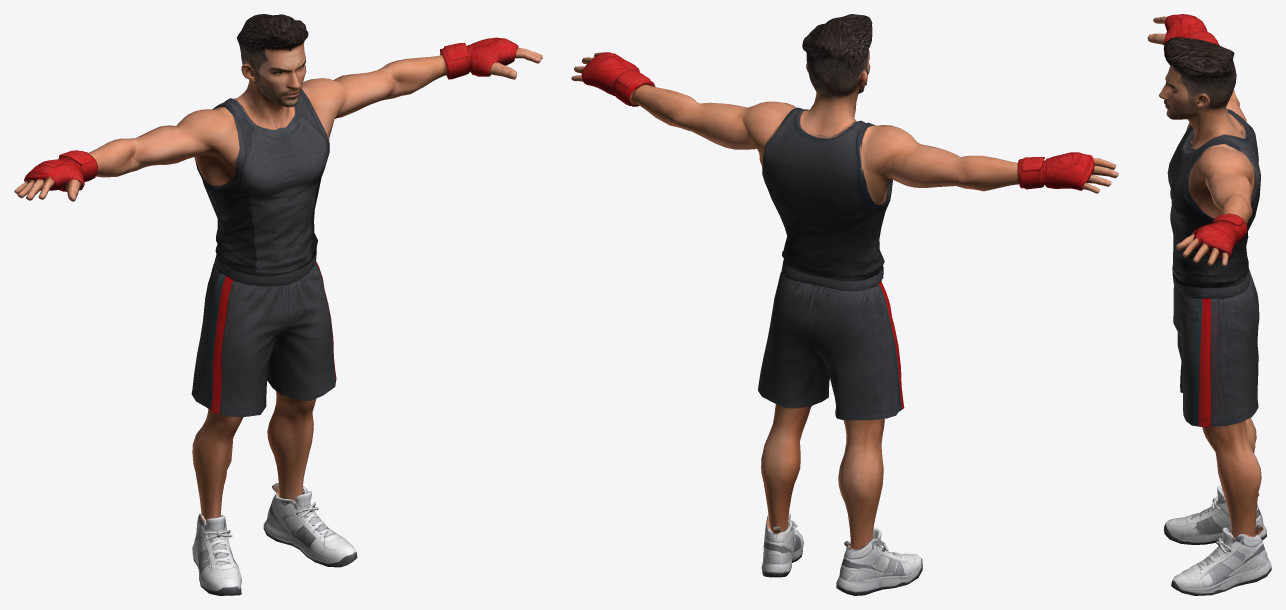
Rendered from coach_m_tripo_static.glb.
3 views of the same model, side by side, from view 1: azimuth 30°, elevation 25°; view 2: azimuth 150°, elevation 25°; view 3: azimuth 270°, elevation 25° (orthographic). The views are drawn at different scales.
Visible parts, largest first — view 1: tripo_node_56cf074a; view 2: tripo_node_56cf074a; view 3: tripo_node_56cf074a.
Part boxes in pixels (x1,y1,x2,y2): tripo_node_56cf074a: [14, 14, 542, 595]; tripo_node_56cf074a: [571, 14, 1118, 595]; tripo_node_56cf074a: [1147, 14, 1271, 595].
Bounding box in the file's own units: 0.9995 × 0.9995 × 0.2153.
1 material, 1 textured.
